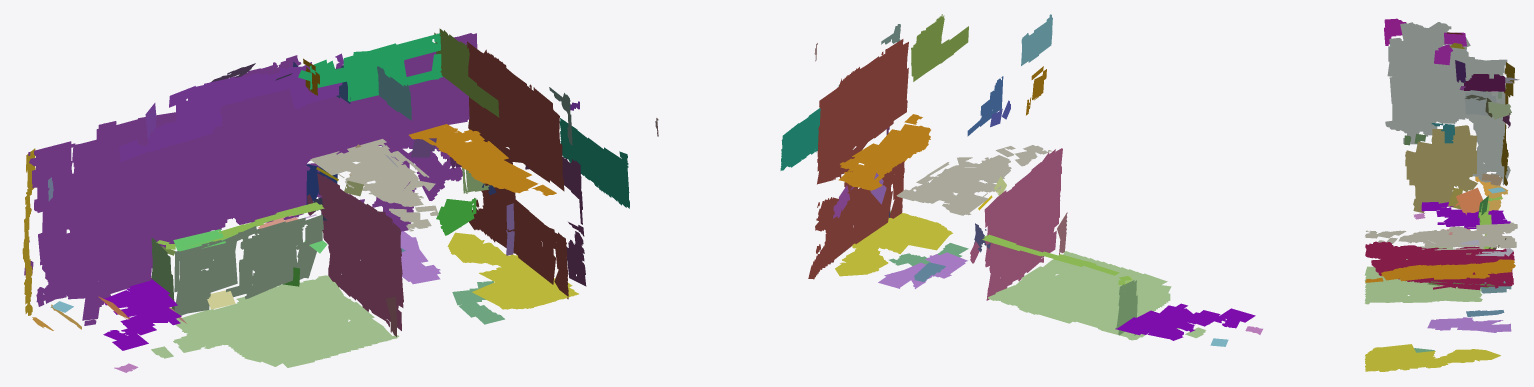
Rendered from 324d07a5b3_simple.glb.
3 views of the same model, side by side, from view 1: azimuth 30°, elevation 25°; view 2: azimuth 150°, elevation 25°; view 3: azimuth 270°, elevation 25° (orthographic). The views are drawn at different scales.
Bounding box in the file's own units: 8.43 × 3.38 × 2.39.
